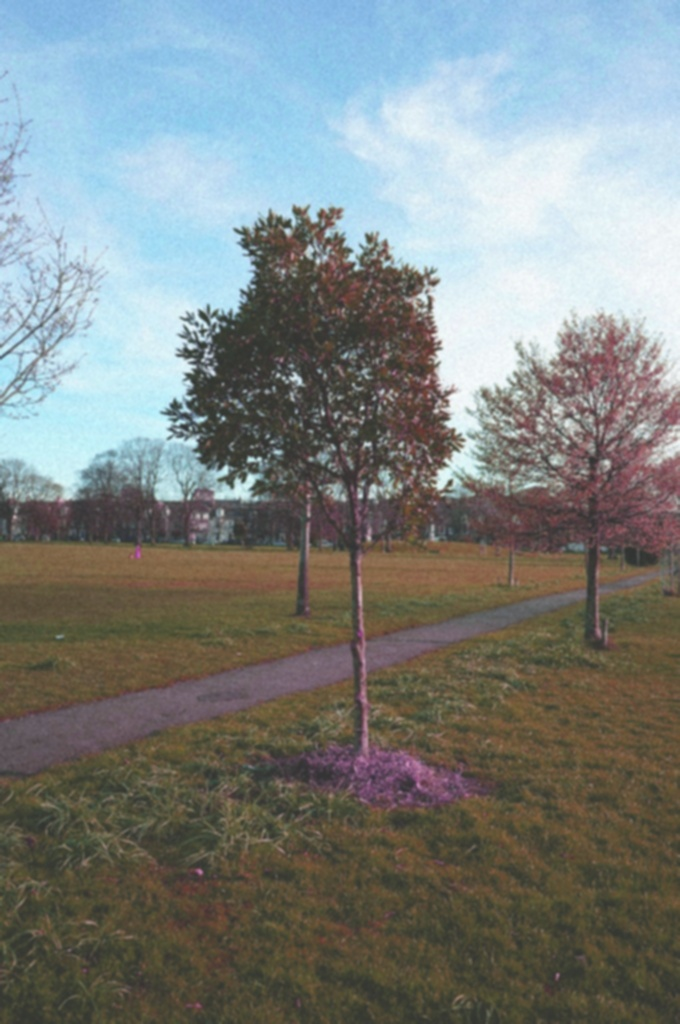Tree: (150, 162, 487, 791), (450, 305, 680, 677), (65, 420, 211, 559), (0, 432, 58, 570)
